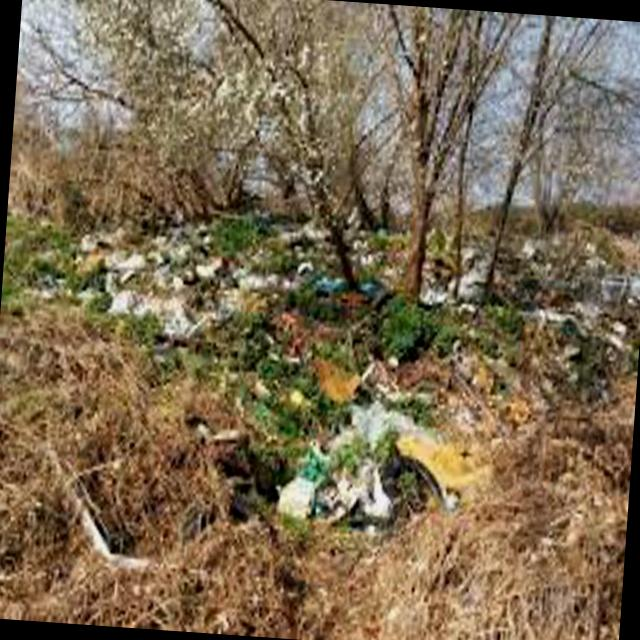garbage: (8, 172, 632, 562)
